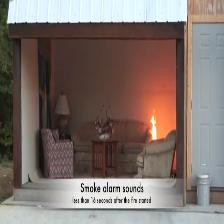fire: (150, 116, 157, 139)
